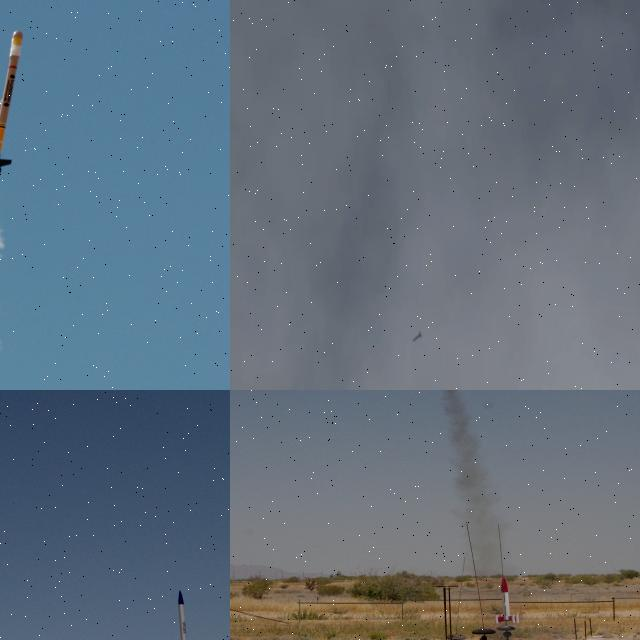Rocket: (0, 30, 24, 173), (494, 575, 520, 624), (176, 589, 195, 640), (412, 330, 422, 342)
